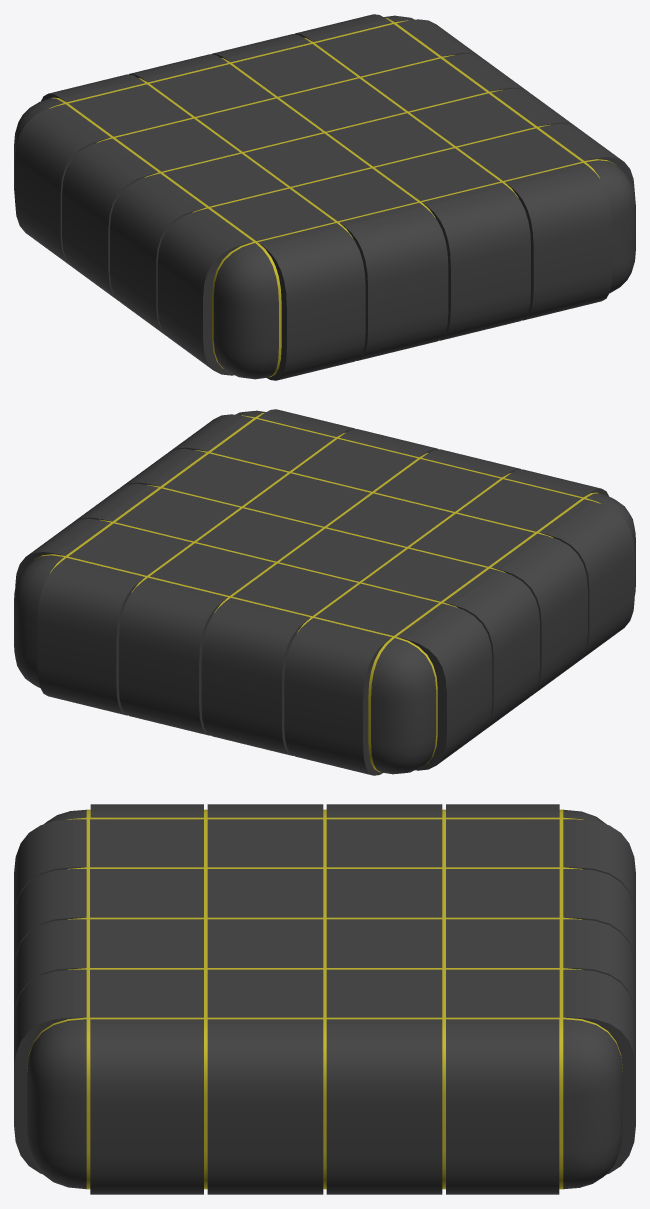
File: Level2.FBX
3 views of the same model, one above another, from view 1: azimuth 30°, elevation 25°; view 2: azimuth 150°, elevation 25°; view 3: azimuth 270°, elevation 25° (orthographic). The views are drawn at different scales.
Visible parts, largest first — view 1: VR_Level2; view 2: VR_Level2; view 3: VR_Level2.
Part boxes in pixels (x1=…): VR_Level2: x1=14, y1=14, x2=635, y2=380; VR_Level2: x1=14, y1=409, x2=635, y2=775; VR_Level2: x1=14, y1=804, x2=635, y2=1194.
Size of the model in its own units: 10437 by 3000 by 10437.
